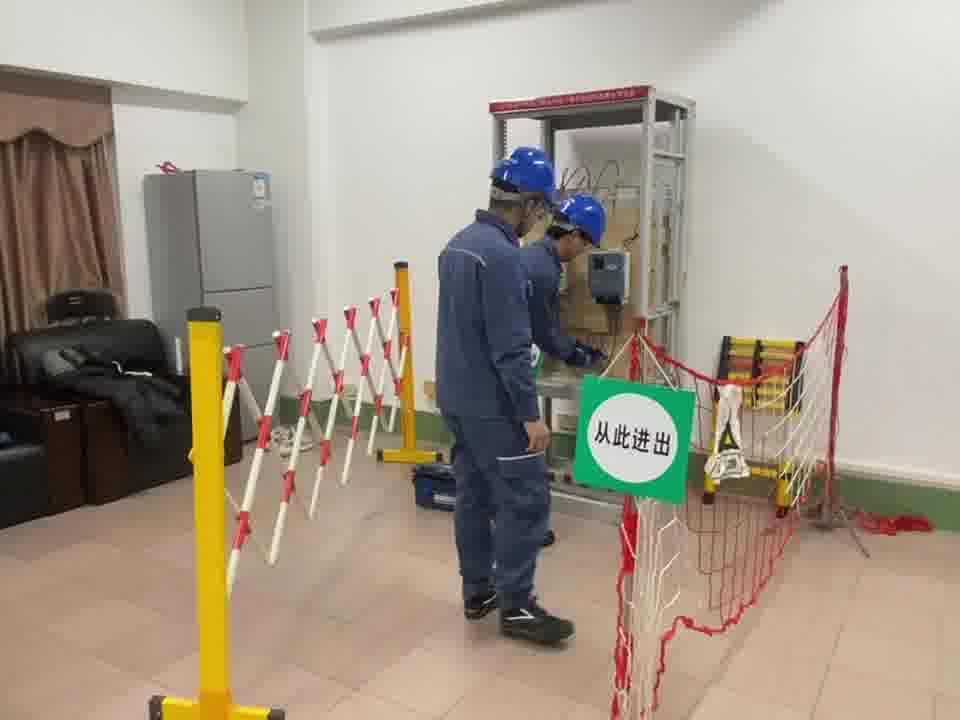halt: (492, 146, 562, 220), (559, 195, 612, 262)
